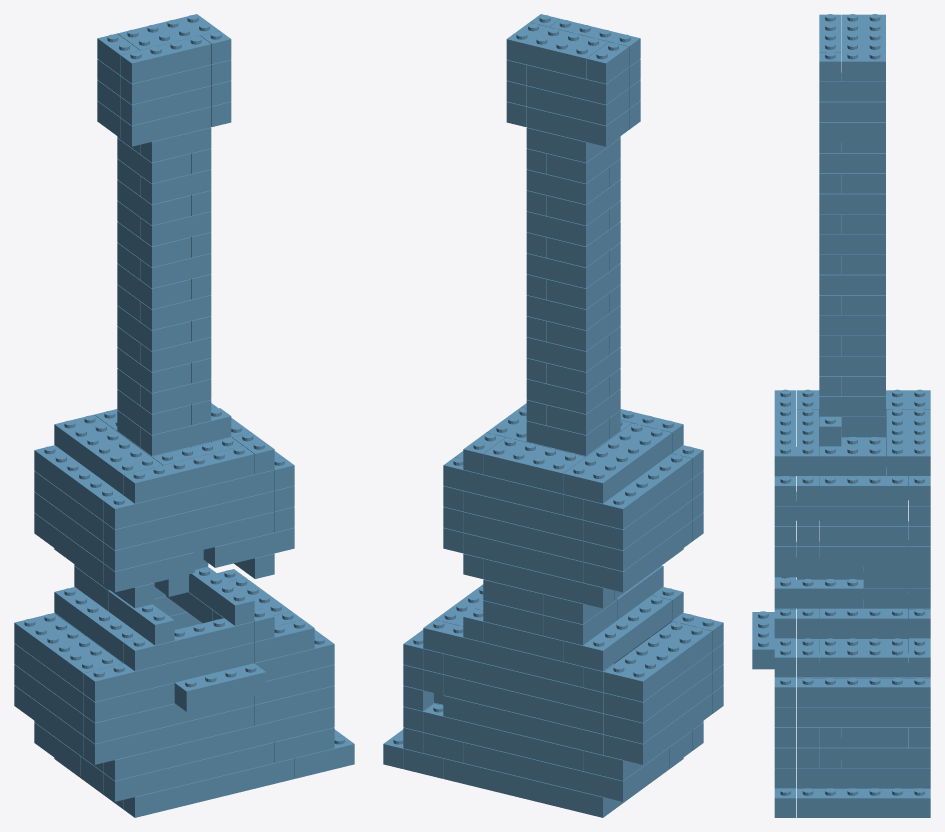
File: 168_guitar_L3.glb
The picture shows the model from 3 angles, left to right: view 1: azimuth 30°, elevation 25°; view 2: azimuth 150°, elevation 25°; view 3: azimuth 270°, elevation 25°; orthographic projection. The views are drawn at different scales.
Size of the model in its own units: 12.98 by 35.13 by 7.98.
